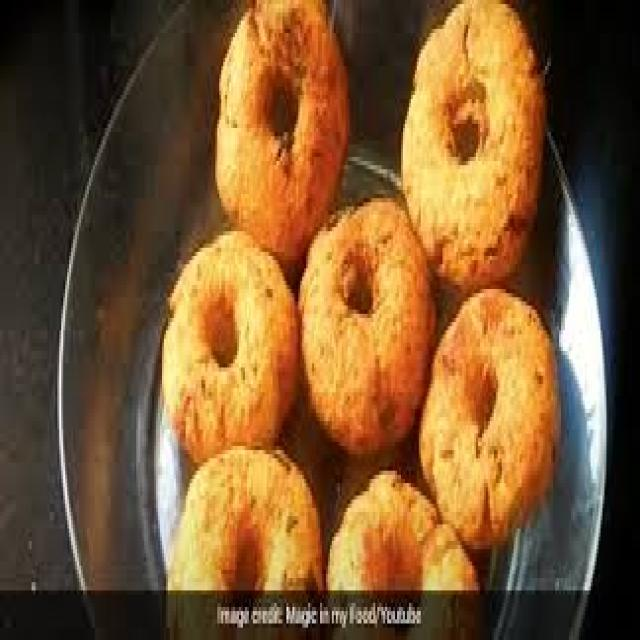MEDU VADA: (403, 1, 544, 296), (299, 191, 434, 452), (422, 301, 562, 552), (218, 0, 349, 256), (161, 228, 299, 464), (166, 451, 319, 590), (329, 472, 474, 596)
